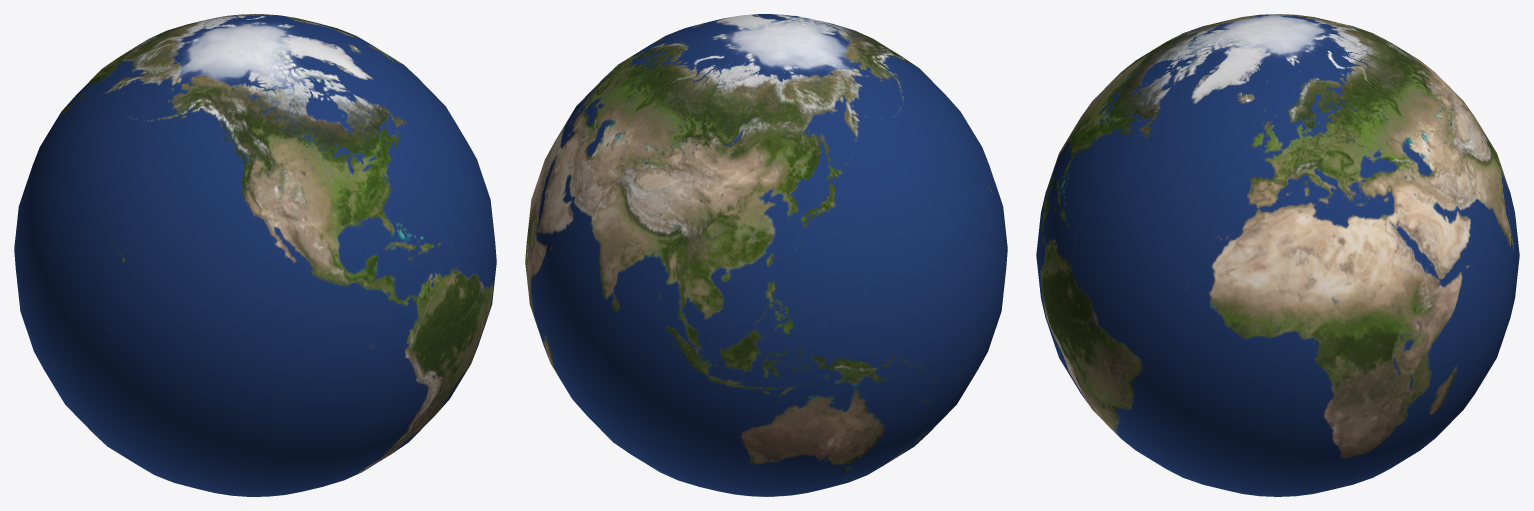
The model's file is Bumi Model.fbx.
3 renders of one model, left to right at view 1: azimuth 30°, elevation 25°; view 2: azimuth 150°, elevation 25°; view 3: azimuth 270°, elevation 25°, orthographic.
Visible parts, largest first — view 1: Earth; view 2: Earth; view 3: Earth.
Part boxes in pixels (x1=…): Earth: x1=14, y1=14, x2=496, y2=496; Earth: x1=525, y1=14, x2=1007, y2=496; Earth: x1=1036, y1=14, x2=1519, y2=496.
Bounding box in the file's own units: 2 × 2 × 2.
1 material, 1 textured.
